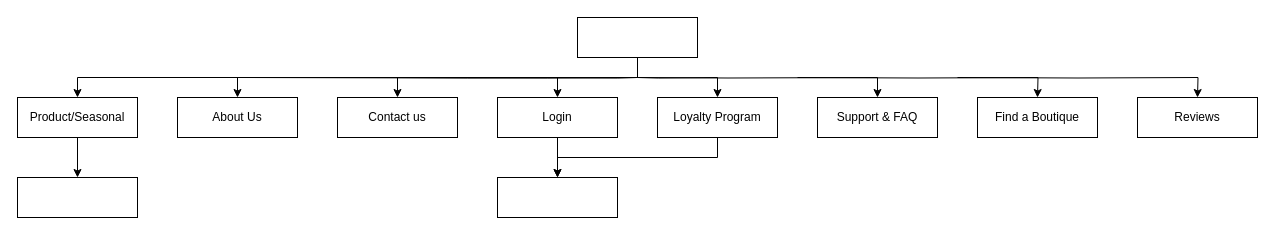
This 1275x235 diagram has some shape labels left out. Each missing label, with the centre of its shape:
"Index" goes at (637,37).
"Product Description (Check Out)" goes at (77,197).
"Register" goes at (557,197).
